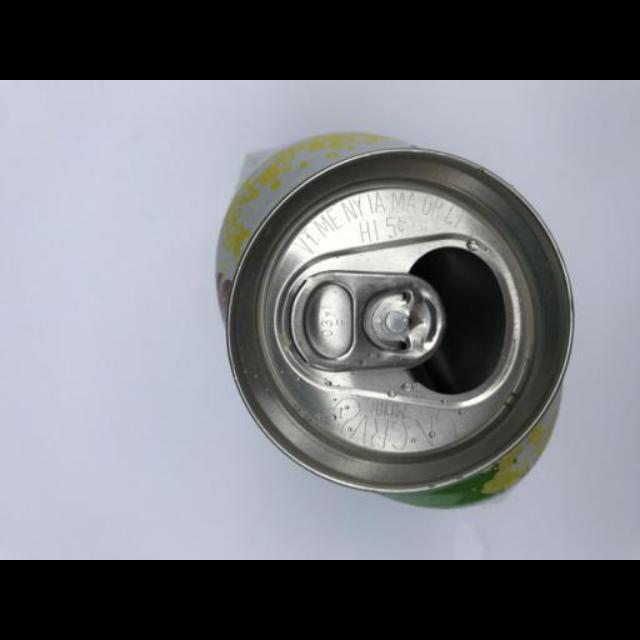aba de lata: (290, 269, 448, 371)
lata: (215, 133, 577, 511)
